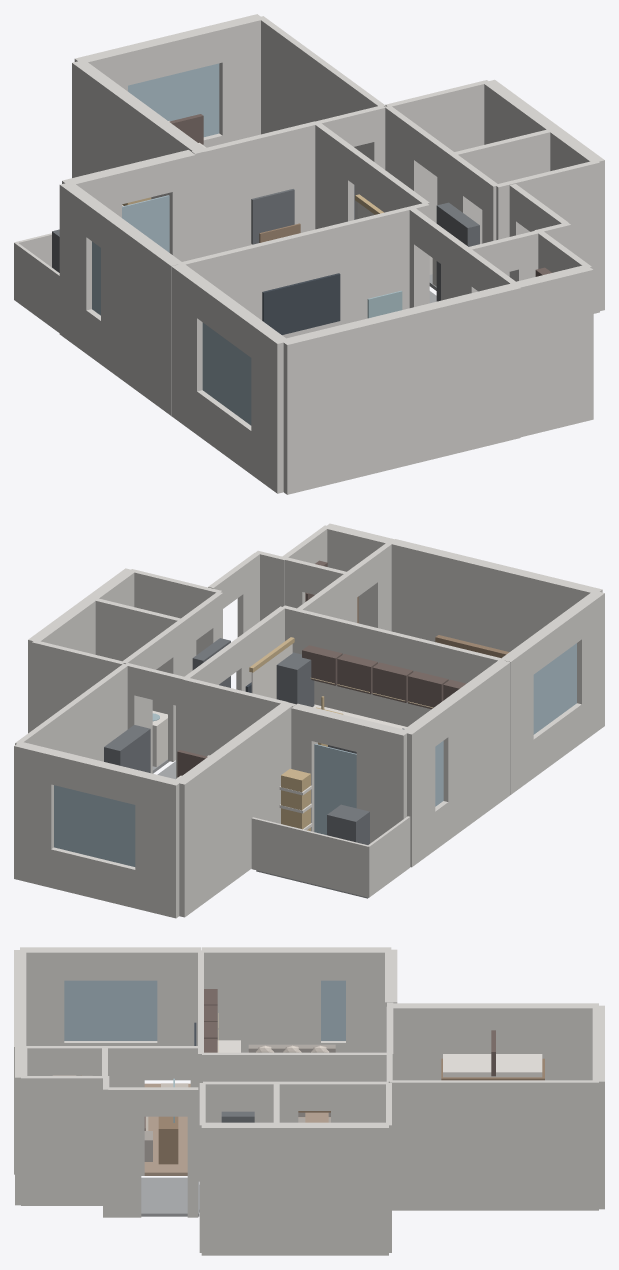
File: kvartira-warm-school-dinner.glb
3 renders of one model, top to bottom at view 1: azimuth 30°, elevation 25°; view 2: azimuth 150°, elevation 25°; view 3: azimuth 270°, elevation 25°, orthographic. The views are drawn at different scales.
Visible parts, largest first — view 1: wall_w_l_s_166_612_0.0, wall_w_dividing_168_644_0.0, wall_w_closet_s_612_752_0.0, wall_w_k_w_559_791_0.0, wall_w_top_s_426_660_0.0, wall_w_top_w_20_423_0.0, wall_w_top_e_20_425_0.0, wall_w_wc_s_777_971_0.0, wall_w_l_w_1057_1143_0.0, wall_w_top_n_691_771_0.0, wall_w_bath_n_777_971_0.0, wall_w_k_w_423_511_0.0 (+40 smaller); view 2: wall_w_l_s_166_612_0.0, wall_w_top_w_20_423_0.0, wall_w_dividing_168_644_0.0, wall_w_k_w_559_791_0.0, wall_w_top_n_422_510_0.0, wall_w_log_n_159_409_0.0, wall_w_top_n_691_771_0.0, wall_w_top_e_20_425_0.0, wall_w_top_n_510_691_0.8, wall_w_k_n1_165_266_0.0, wall_w_k_n2_408_643_0.0, wall_w_bath_n_777_971_0.0 (+51 smaller); view 3: wall_w_top_e_20_425_0.0, wall_w_bath_e_427_791_0.0, wall_w_top_w_20_423_0.0, wall_w_k_w_559_791_0.0, wall_w_closet_e_978_1141_0.0, wall_w_l_w_877_1057_0.8, wall_w_entry_e_908_972_0.0, wall_w_l_w_792_877_0.0, wall_w_k_w_423_511_0.0, wall_w_l_w_1057_1143_0.0, wall_w_l_w_877_1057_2.1, wall_w_k_e_625_790_0.0 (+30 smaller).
Boxes of the visible parts, x1=… form: wall_w_l_s_166_612_0.0: x1=281, y1=283, x2=520, y2=494; wall_w_dividing_168_644_0.0: x1=178, y1=202, x2=429, y2=338; wall_w_closet_s_612_752_0.0: x1=516, y1=265, x2=593, y2=437; wall_w_k_w_559_791_0.0: x1=101, y1=212, x2=182, y2=415; wall_w_top_s_426_660_0.0: x1=204, y1=119, x2=327, y2=256; wall_w_top_w_20_423_0.0: x1=72, y1=60, x2=204, y2=199; wall_w_top_e_20_425_0.0: x1=258, y1=16, x2=385, y2=219; wall_w_wc_s_777_971_0.0: x1=495, y1=161, x2=599, y2=313; wall_w_l_w_1057_1143_0.0: x1=251, y1=322, x2=289, y2=493; wall_w_top_n_691_771_0.0: x1=216, y1=14, x2=263, y2=143; wall_w_bath_n_777_971_0.0: x1=385, y1=80, x2=489, y2=223; wall_w_k_w_423_511_0.0: x1=59, y1=183, x2=98, y2=353; wall_w_l_s_166_612_0.0: x1=390, y1=539, x2=602, y2=651; wall_w_top_w_20_423_0.0: x1=174, y1=703, x2=292, y2=917; wall_w_dividing_168_644_0.0: x1=282, y1=605, x2=505, y2=726; wall_w_k_w_559_791_0.0: x1=437, y1=659, x2=510, y2=840; wall_w_top_n_422_510_0.0: x1=135, y1=771, x2=181, y2=918; wall_w_log_n_159_409_0.0: x1=251, y1=817, x2=368, y2=897; wall_w_top_n_691_771_0.0: x1=14, y1=742, x2=56, y2=887; wall_w_top_e_20_425_0.0: x1=15, y1=663, x2=127, y2=761; wall_w_top_n_510_691_0.8: x1=54, y1=785, x2=135, y2=866; wall_w_k_n1_165_266_0.0: x1=356, y1=719, x2=409, y2=843; wall_w_k_n2_408_643_0.0: x1=183, y1=679, x2=295, y2=756; wall_w_bath_n_777_971_0.0: x1=32, y1=641, x2=124, y2=730; wall_w_top_e_20_425_0.0: x1=390, y1=1080, x2=598, y2=1210; wall_w_bath_e_427_791_0.0: x1=201, y1=1122, x2=388, y2=1255; wall_w_top_w_20_423_0.0: x1=391, y1=1003, x2=598, y2=1080; wall_w_k_w_559_791_0.0: x1=201, y1=947, x2=320, y2=1052; wall_w_closet_e_978_1141_0.0: x1=21, y1=1076, x2=104, y2=1205; wall_w_l_w_877_1057_0.8: x1=64, y1=980, x2=157, y2=1040; wall_w_entry_e_908_972_0.0: x1=108, y1=1087, x2=141, y2=1217; wall_w_l_w_792_877_0.0: x1=157, y1=947, x2=200, y2=1080; wall_w_k_w_423_511_0.0: x1=346, y1=947, x2=391, y2=1052; wall_w_l_w_1057_1143_0.0: x1=20, y1=947, x2=64, y2=1045; wall_w_l_w_877_1057_2.1: x1=64, y1=947, x2=157, y2=980; wall_w_k_e_625_790_0.0: x1=202, y1=1052, x2=286, y2=1111.
Bounding box in the file's own units: 8.24 × 2.77 × 11.41.
